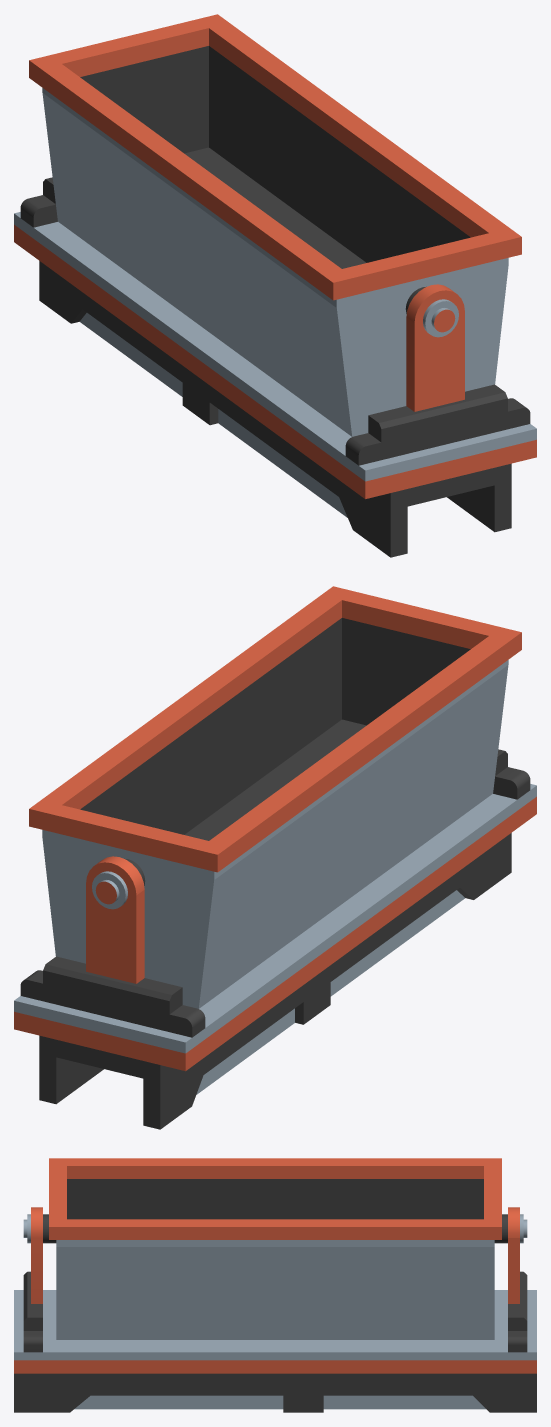
File: monorailTrain_cargo_exclusive.fbx
3 views of the same model, one above another, from view 1: azimuth 30°, elevation 25°; view 2: azimuth 150°, elevation 25°; view 3: azimuth 270°, elevation 25° (orthographic). The views are drawn at different scales.
Visible parts, largest first — view 1: cargoBed, monorailTrain_cargo_exclusive; view 2: cargoBed, monorailTrain_cargo_exclusive; view 3: cargoBed, monorailTrain_cargo_exclusive.
Boxes of the visible parts, box(x1,y1,x2,y2) form: cargoBed: box(29, 14, 521, 436); monorailTrain_cargo_exclusive: box(14, 177, 536, 557); cargoBed: box(29, 586, 521, 1008); monorailTrain_cargo_exclusive: box(14, 749, 536, 1129); cargoBed: box(49, 1158, 501, 1339); monorailTrain_cargo_exclusive: box(14, 1207, 536, 1412).
Size of the model in its own units: 4.46 by 6.01 by 14.4.
